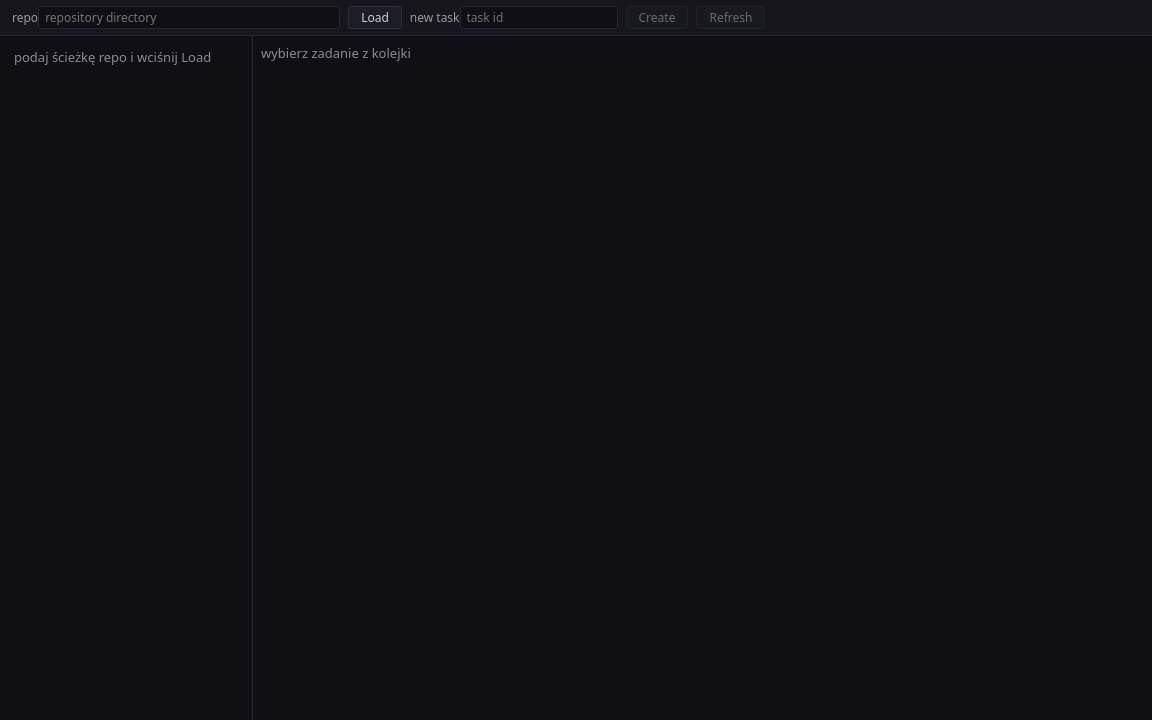
Test: ReviewPanel › loads the queue with badges, candidate line, file list and colored patch
Type "C:/repo" into the field with test id "review-repo" at [189, 18], box [38,6,340,29]
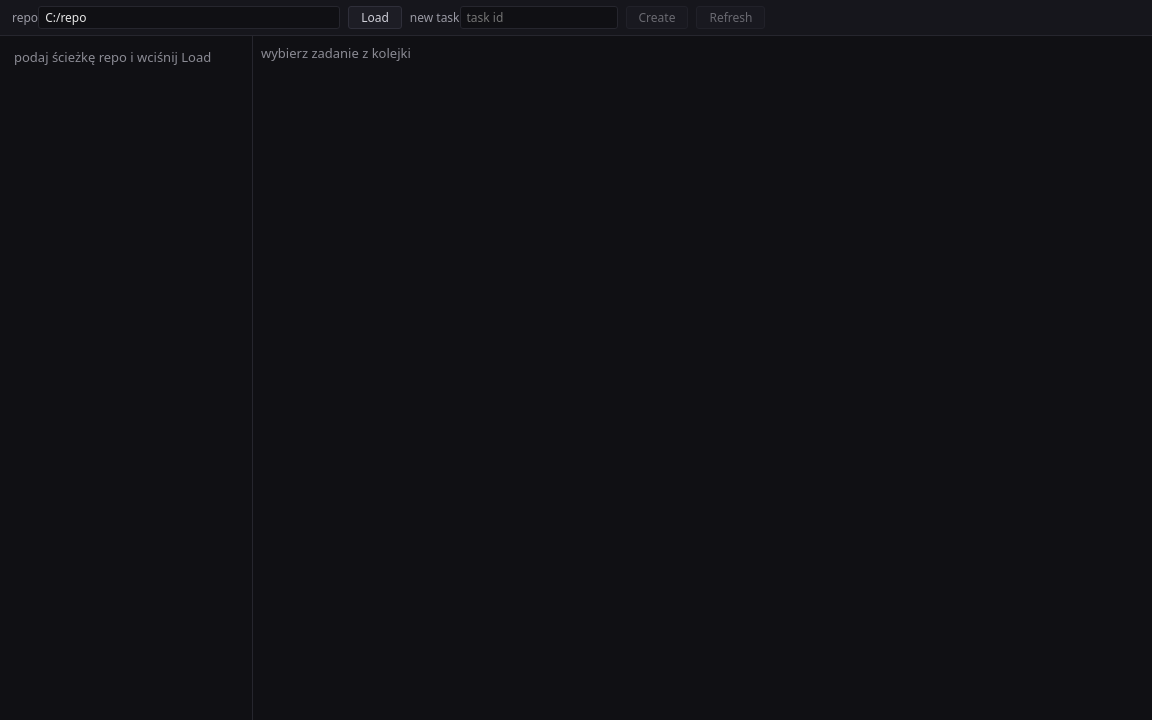
Click the button with test id "review-load" at [375, 18], box [348,6,402,29]
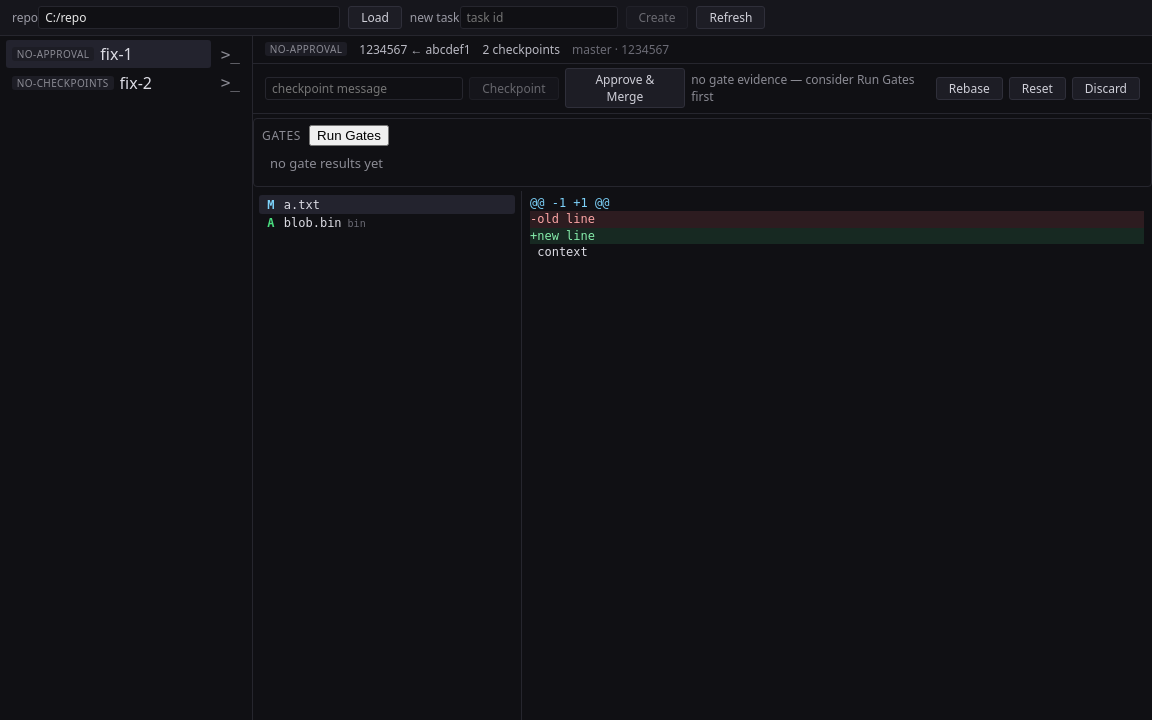
Check: the text "fix-1" is shown, box [100,43,133,65]
Check: the button with test id "review-task" shows "no-approval", box [6,40,211,68]
Check: the button with test id "review-task" shows "no-checkpoints", box [6,68,211,97]
